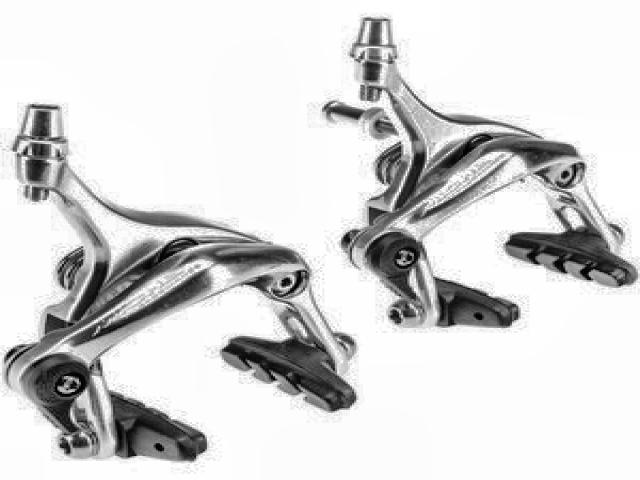rim_brake: (4, 102, 359, 466), (323, 14, 638, 328)
